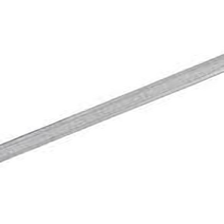Wrench: (1, 43, 224, 164)
